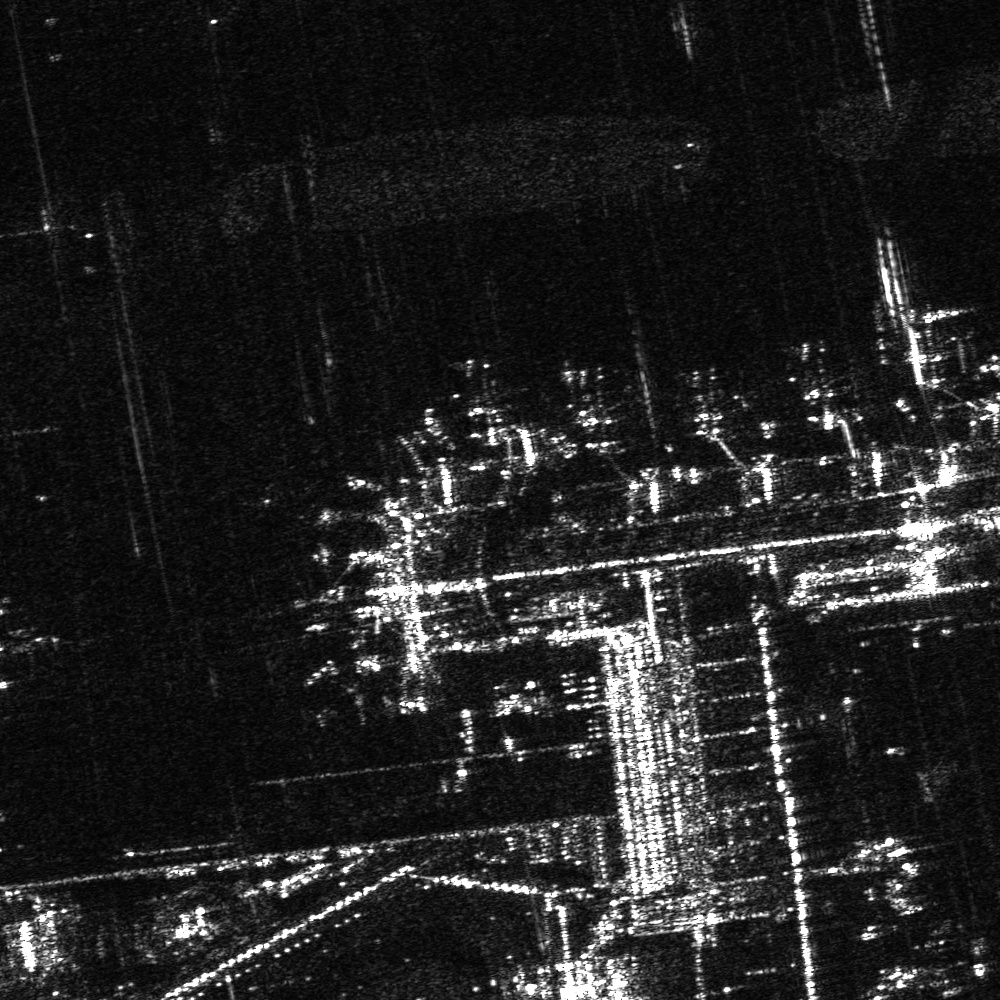A220: (445, 357, 533, 445), (556, 364, 638, 455), (672, 361, 753, 445), (781, 339, 851, 427)
Boeing787: (313, 677, 372, 729)
